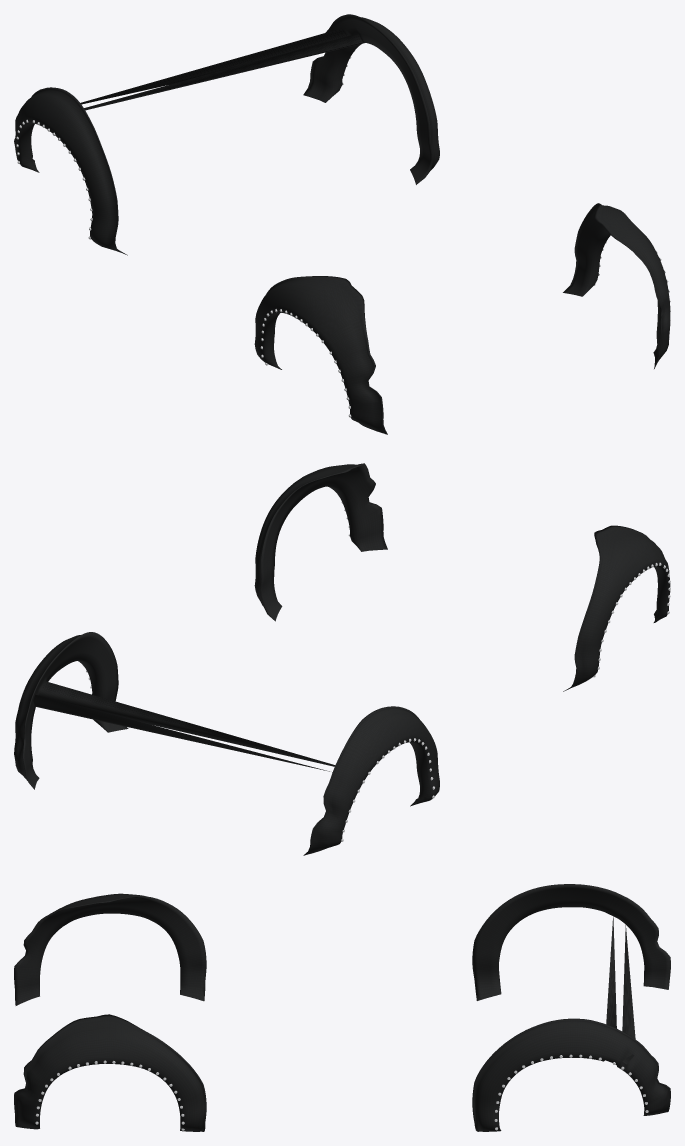
The model's file is WB02_widebody_fenders_carbon.glb.
3 renders of one model, top to bottom at view 1: azimuth 30°, elevation 25°; view 2: azimuth 150°, elevation 25°; view 3: azimuth 270°, elevation 25°, orthographic. The views are drawn at different scales.
Visible parts, largest first — view 1: MOD_NB_WB02_rear_L, MOD_NB_WB02_front_R, MOD_NB_WB02_rear_R, MOD_NB_WB02_front_L; view 2: MOD_NB_WB02_rear_L, MOD_NB_WB02_rear_R, MOD_NB_WB02_front_L, MOD_NB_WB02_front_R; view 3: MOD_NB_WB02_rear_L, MOD_NB_WB02_front_L, MOD_NB_WB02_rear_R, MOD_NB_WB02_front_R.
Part boxes in pixels (x1,y1,x2,y2): MOD_NB_WB02_rear_L: (80,14,439,184); MOD_NB_WB02_front_R: (254,276,387,434); MOD_NB_WB02_rear_R: (14,87,127,255); MOD_NB_WB02_front_L: (563,203,670,368); MOD_NB_WB02_rear_L: (14,632,335,789); MOD_NB_WB02_rear_R: (303,706,439,855); MOD_NB_WB02_front_L: (254,463,387,621); MOD_NB_WB02_front_R: (563,525,670,691); MOD_NB_WB02_rear_L: (472,917,670,1131); MOD_NB_WB02_front_L: (14,1014,206,1131); MOD_NB_WB02_rear_R: (472,884,670,1000); MOD_NB_WB02_front_R: (14,893,206,1005).
Size of the model in its own units: 1.85 by 0.6313 by 3.26.
2 materials, 1 textured.
